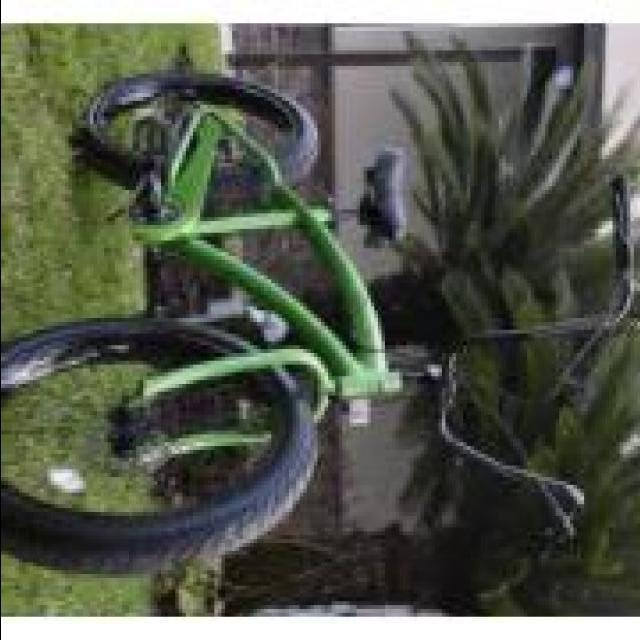bicycle: (22, 63, 605, 579)
